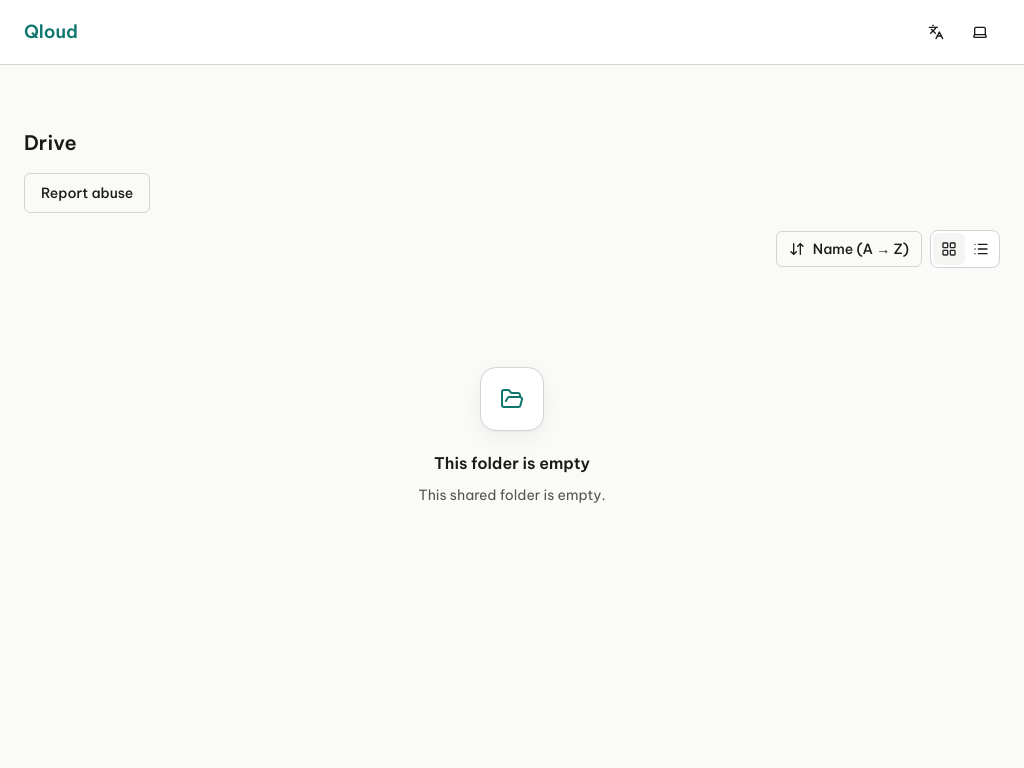
Test case: submits a scoped anonymous report and shows success
Click the button "Report abuse" at (87, 193), box [24,173,150,213]
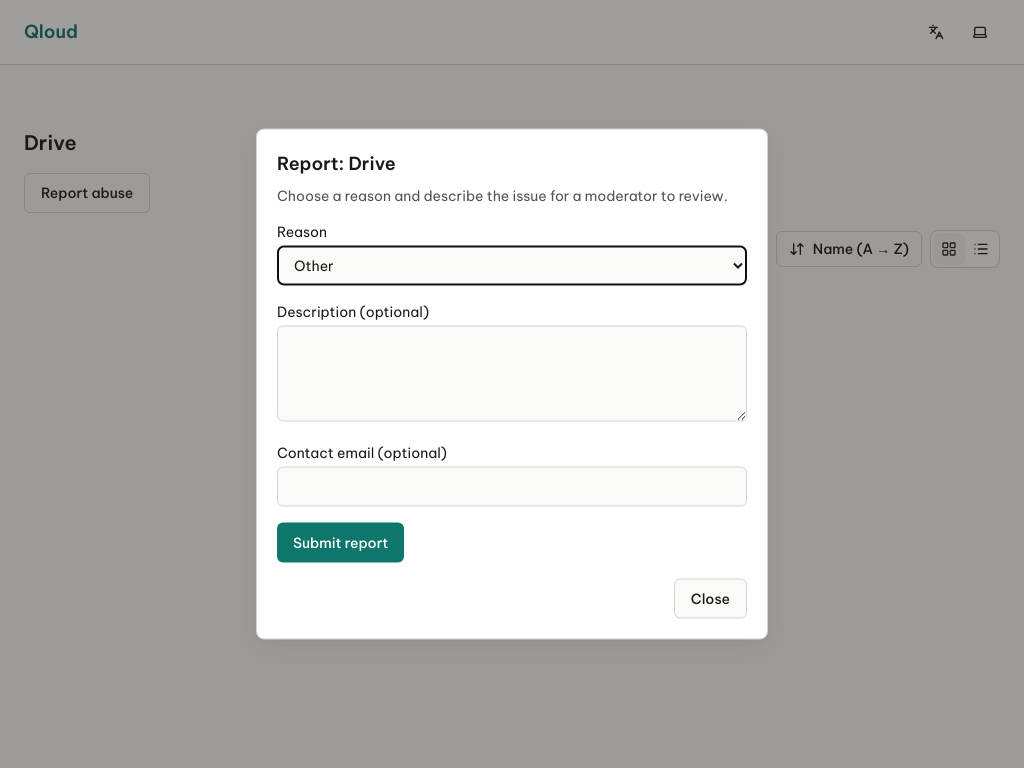
Select "Malware" in the dropdown labelled "Reason" at (512, 266), box [277,246,747,286]
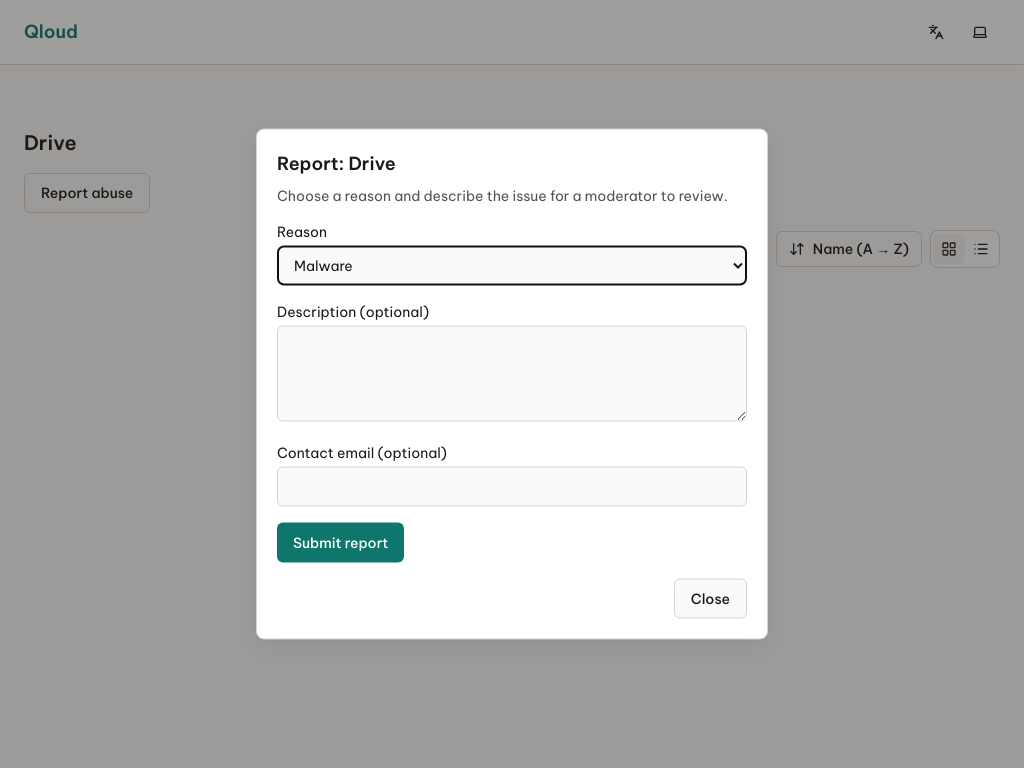
Type "Unsafe download" into the text box labelled "Description (optional)" at (512, 374), box [277,326,747,422]
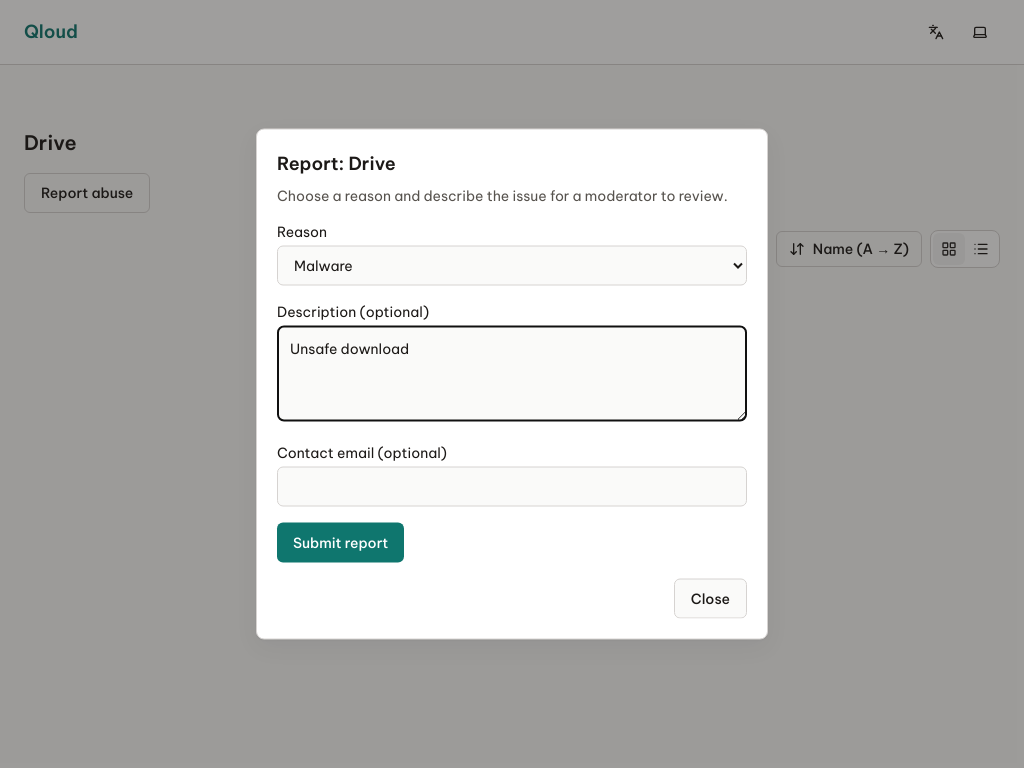
Type "contact@example.com" into the field labelled "Contact email (optional)" at (512, 486), box [277,466,747,506]
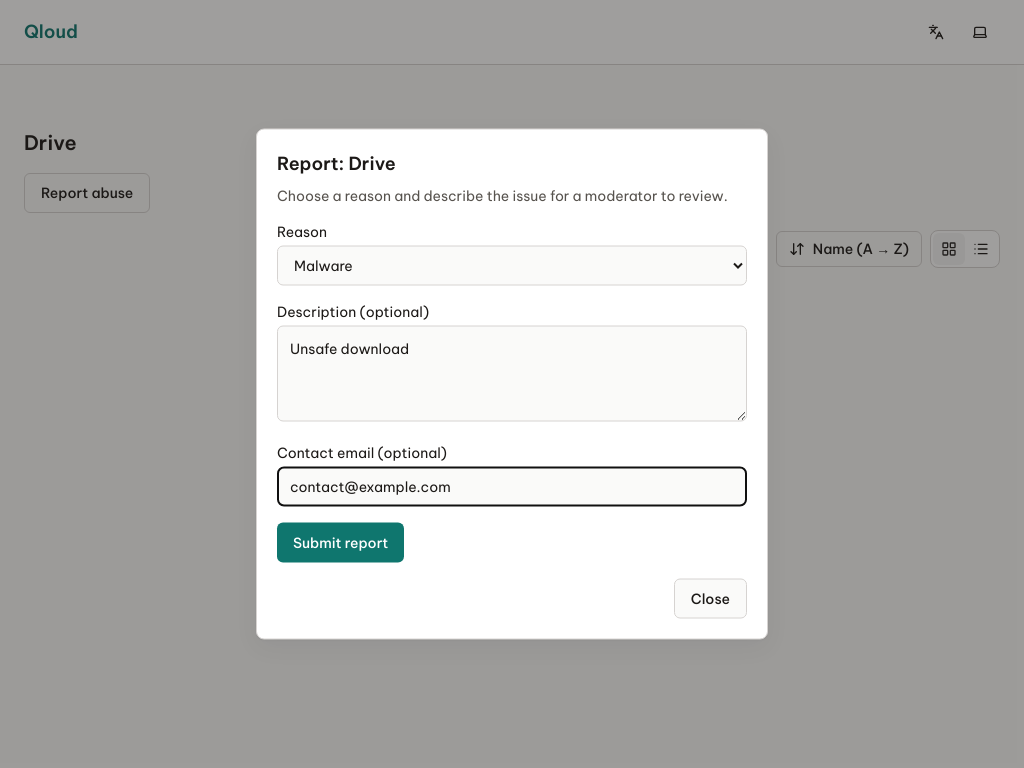
Click the button "Submit report" at (341, 542), box [277,522,404,562]
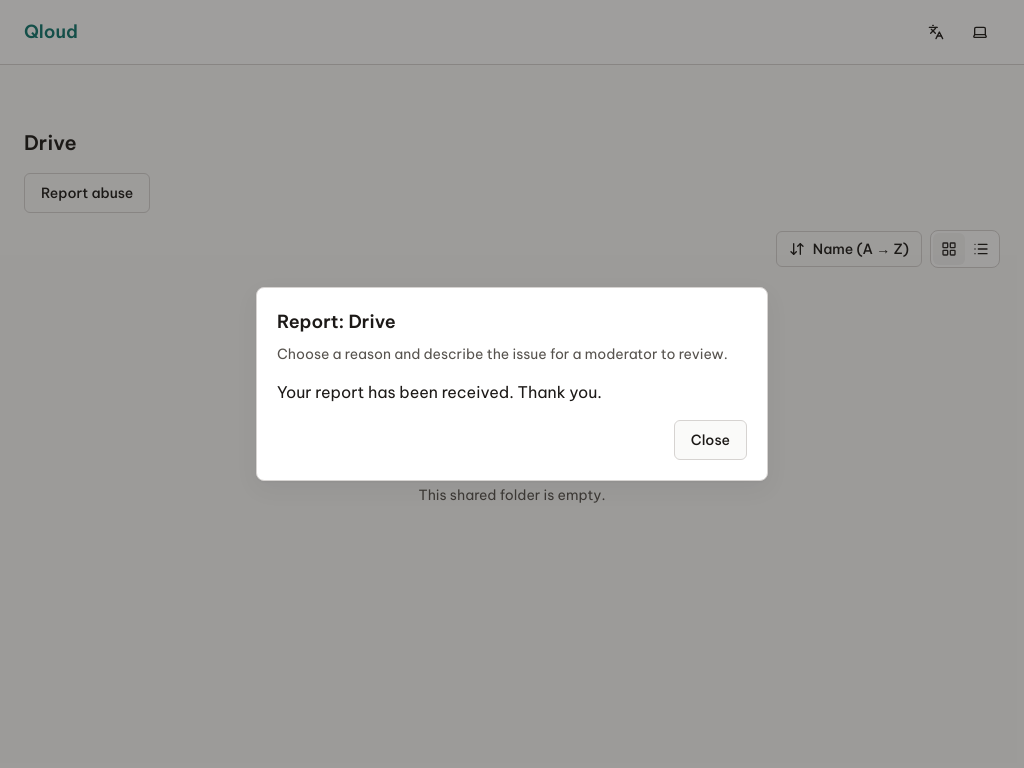
Expected: the text "Your report has been received. Thank you." is shown, [277,382,602,402]
Expected: the button "Submit report" is gone
